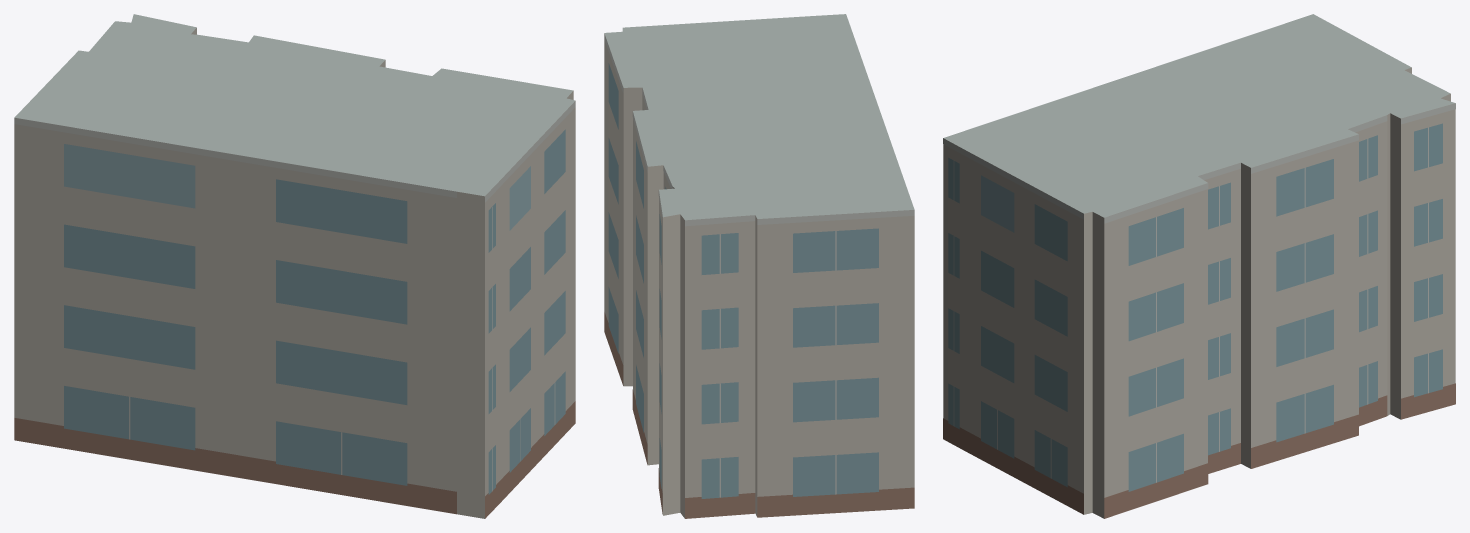
Rendered from survey-upis-32650150.glb.
The picture shows the model from 3 angles, left to right: view 1: azimuth 30°, elevation 25°; view 2: azimuth 150°, elevation 25°; view 3: azimuth 270°, elevation 25°; orthographic projection. The views are drawn at different scales.
Parts seen in each view (by area): view 1: survey-upis-32650150.tmp; view 2: survey-upis-32650150.tmp; view 3: survey-upis-32650150.tmp.
Part boxes in pixels (box(x1,y1,x2,y2)): survey-upis-32650150.tmp: box(14, 14, 575, 518); survey-upis-32650150.tmp: box(604, 14, 914, 518); survey-upis-32650150.tmp: box(943, 14, 1455, 518).
Bounding box in the file's own units: 17.71 × 12.2 × 18.83.
